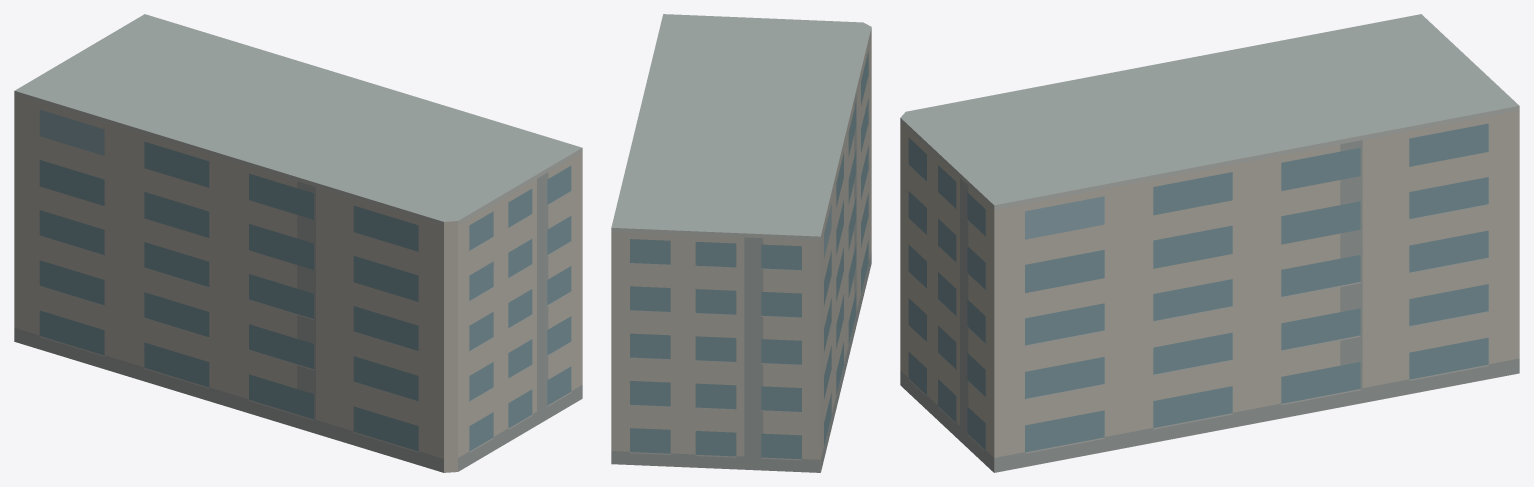
Rendered from survey-upis-32730114.glb.
The picture shows the model from 3 angles, left to right: view 1: azimuth 30°, elevation 25°; view 2: azimuth 150°, elevation 25°; view 3: azimuth 270°, elevation 25°; orthographic projection. The views are drawn at different scales.
Visible parts, largest first — view 1: survey-upis-32730114.tmp; view 2: survey-upis-32730114.tmp; view 3: survey-upis-32730114.tmp.
Part boxes in pixels (<box>): survey-upis-32730114.tmp: <box>14,14,582,472</box>; survey-upis-32730114.tmp: <box>611,14,871,472</box>; survey-upis-32730114.tmp: <box>900,14,1519,472</box>.
Size of the model in its own units: 22.09 by 14.4 by 30.21.
